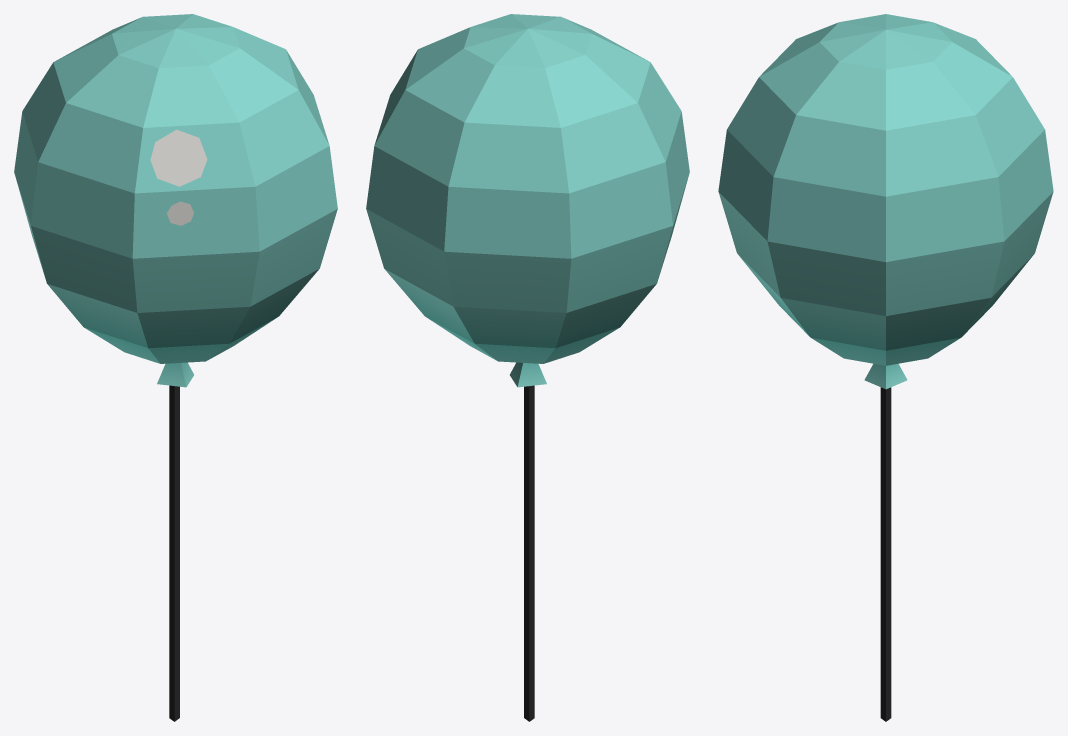
File: AnniversaryGreenBaloon.glb
The picture shows the model from 3 angles, left to right: view 1: azimuth 30°, elevation 25°; view 2: azimuth 150°, elevation 25°; view 3: azimuth 270°, elevation 25°; orthographic projection.
Visible parts, largest first — view 1: AnniversaryGreenBaloon; view 2: AnniversaryGreenBaloon; view 3: AnniversaryGreenBaloon.
Part boxes in pixels (x1,y1,x2,y2): AnniversaryGreenBaloon: [14, 14, 337, 721]; AnniversaryGreenBaloon: [366, 14, 689, 721]; AnniversaryGreenBaloon: [718, 14, 1053, 721].
Size of the model in its own units: 0.5698 by 1.29 by 0.5698.
